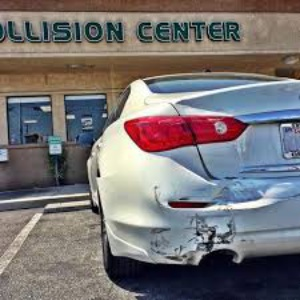bumper: (141, 212, 250, 262)
